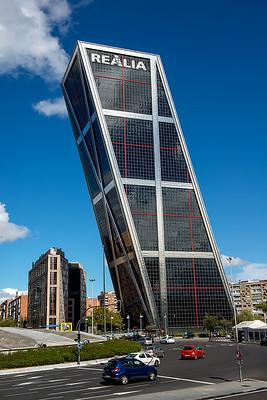building: (56, 37, 240, 353), (25, 246, 89, 332)
